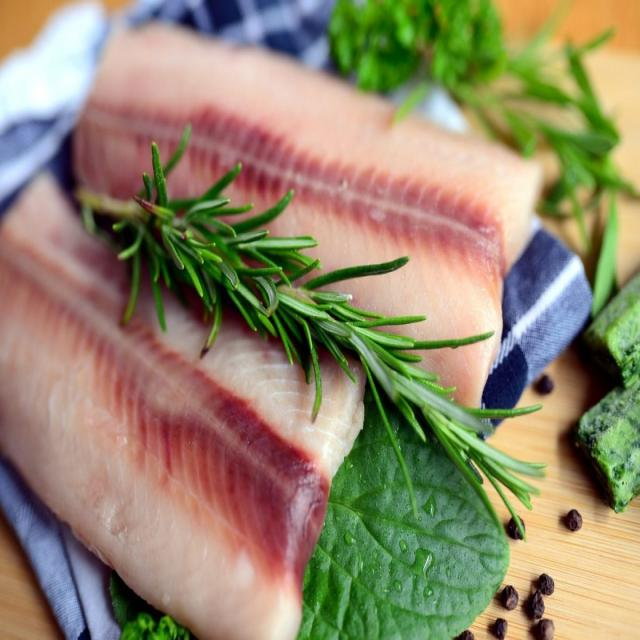pescado: (82, 28, 511, 420)
